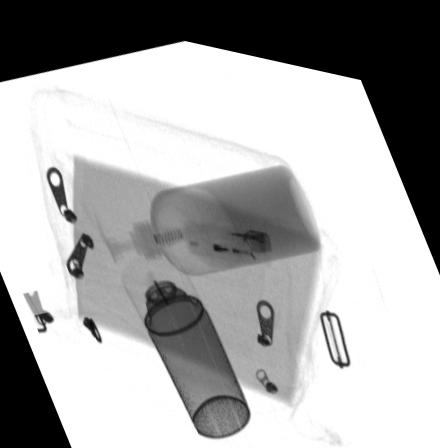Lighter: (184, 209, 275, 256)
Sprayer: (122, 242, 251, 428)
